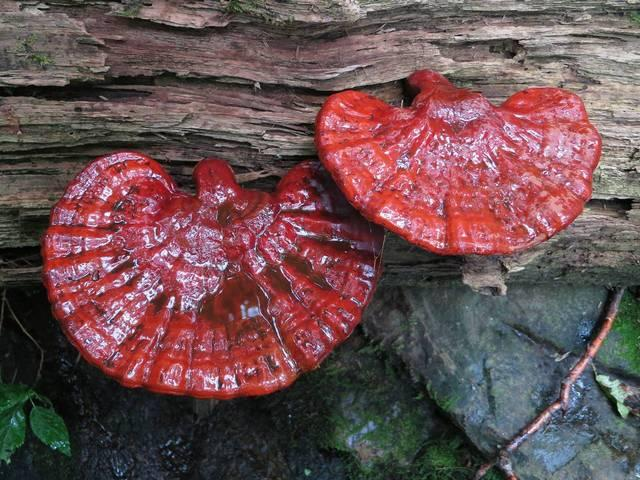poisonous_mushroom: (39, 149, 386, 401), (313, 67, 602, 259)
